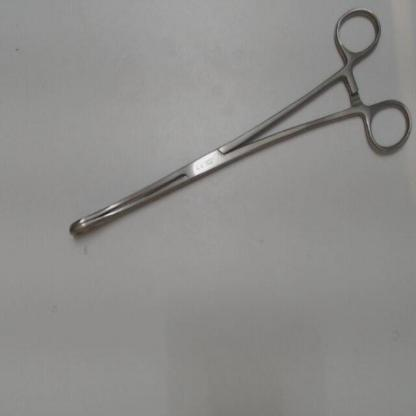Sponge Forceps: (58, 3, 416, 253)
